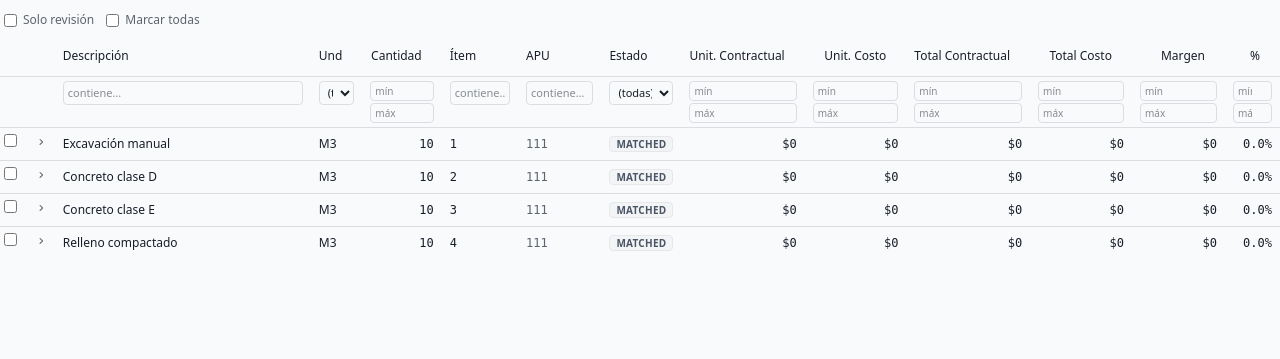
después de asignar se limpia la selección
Click the checkbox named "Marcar ítem 1".
click(10, 140)  # box [4,134,17,146]
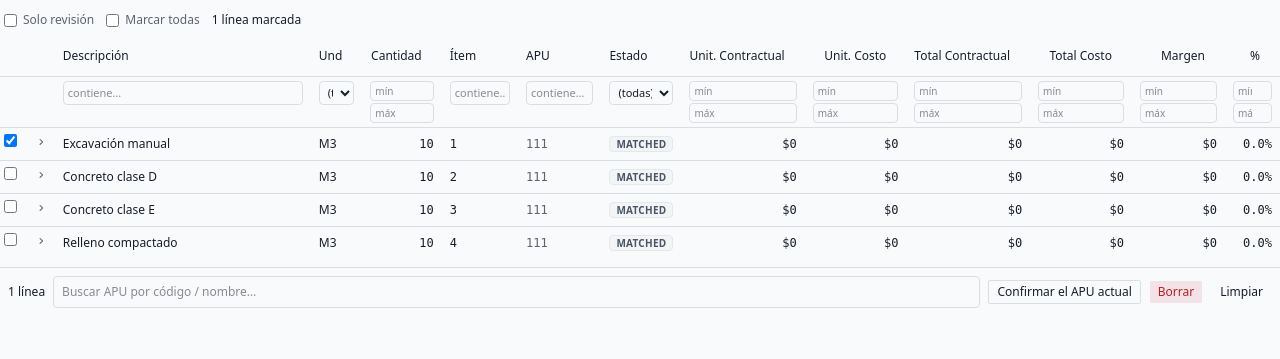
Type "333" into the field with placeholder "Buscar APU por código / nombre…".
click(517, 292); type("333")  # box [53,276,980,308]
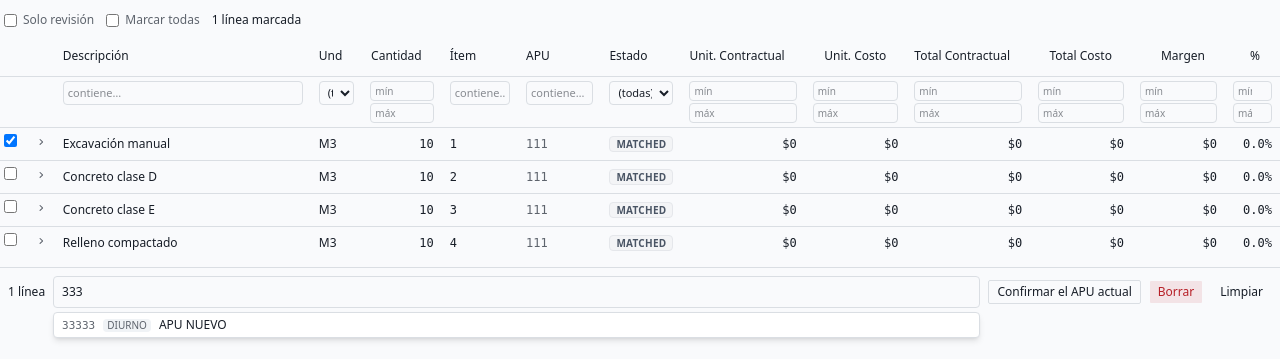
Click the text "APU NUEVO".
click(193, 324)  # box [159,316,227,332]
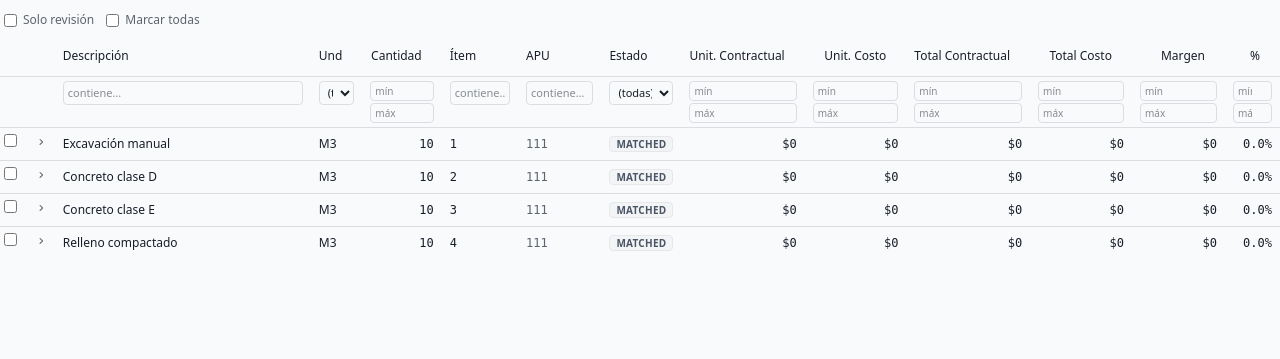
Result: the text "1 línea marcada" is gone
